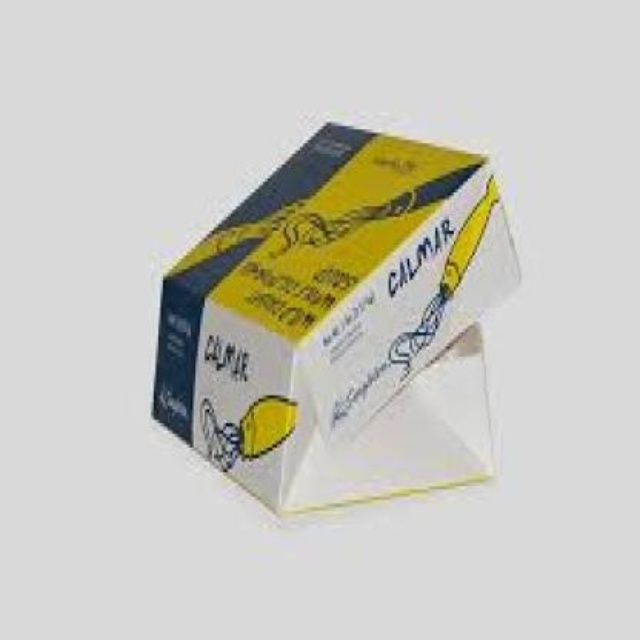trash: (152, 123, 518, 509)
